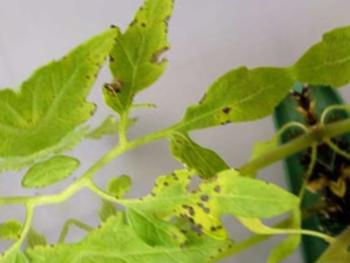Tomato leaf bacterial spot: (110, 123, 305, 263), (67, 0, 222, 136), (158, 47, 304, 151)
